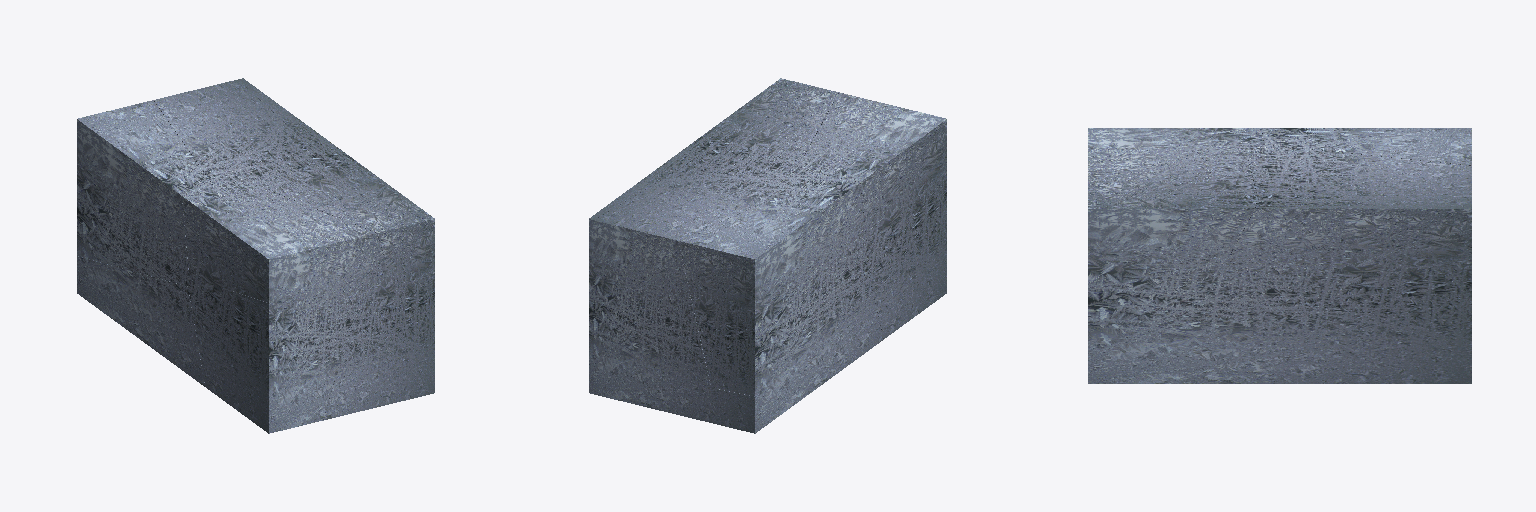
3 renders of one model, left to right at view 1: azimuth 30°, elevation 25°; view 2: azimuth 150°, elevation 25°; view 3: azimuth 270°, elevation 25°, orthographic.
Visible parts, largest first — view 1: MemoryCubeW.002_cell.006_Mesh.013, MemoryCubeW.002_cell.014_Mesh.067, MemoryCubeW.002_cell.012_Mesh.065, MemoryCubeW.002_cell.008_Mesh.061, MemoryCubeW.002_cell.003_Mesh.042, MemoryCubeW.002_cell.000_Mesh.039, MemoryCubeW.002_cell.005_Mesh.044, MemoryCubeW.002_cell.010_Mesh.063; view 2: MemoryCubeW.002_cell.003_Mesh.042, MemoryCubeW.002_cell.014_Mesh.067, MemoryCubeW.002_cell.006_Mesh.013, MemoryCubeW.002_cell.005_Mesh.044, MemoryCubeW.002_cell.012_Mesh.065, MemoryCubeW.002_cell.000_Mesh.039, MemoryCubeW.002_cell.010_Mesh.063; view 3: MemoryCubeW.002_cell.003_Mesh.042, MemoryCubeW.002_cell.008_Mesh.061, MemoryCubeW.002_cell.010_Mesh.063, MemoryCubeW.002_cell.000_Mesh.039, MemoryCubeW.002_cell.006_Mesh.013, MemoryCubeW.002_cell.014_Mesh.067.
Boxes of the visible parts, x1=… form: MemoryCubeW.002_cell.006_Mesh.013: x1=182, y1=185, x2=387, y2=302; MemoryCubeW.002_cell.014_Mesh.067: x1=77, y1=100, x2=213, y2=285; MemoryCubeW.002_cell.012_Mesh.065: x1=188, y1=277, x2=357, y2=433; MemoryCubeW.002_cell.008_Mesh.061: x1=323, y1=258, x2=434, y2=420; MemoryCubeW.002_cell.003_Mesh.042: x1=154, y1=80, x2=326, y2=186; MemoryCubeW.002_cell.000_Mesh.039: x1=255, y1=158, x2=434, y2=267; MemoryCubeW.002_cell.005_Mesh.044: x1=77, y1=256, x2=204, y2=386; MemoryCubeW.002_cell.010_Mesh.063: x1=238, y1=78, x2=351, y2=161; MemoryCubeW.002_cell.003_Mesh.042: x1=589, y1=146, x2=824, y2=413; MemoryCubeW.002_cell.014_Mesh.067: x1=679, y1=175, x2=867, y2=395; MemoryCubeW.002_cell.006_Mesh.013: x1=801, y1=92, x2=946, y2=251; MemoryCubeW.002_cell.005_Mesh.044: x1=676, y1=265, x2=883, y2=433; MemoryCubeW.002_cell.012_Mesh.065: x1=867, y1=164, x2=946, y2=338; MemoryCubeW.002_cell.000_Mesh.039: x1=698, y1=78, x2=838, y2=160; MemoryCubeW.002_cell.010_Mesh.063: x1=589, y1=139, x2=717, y2=234; MemoryCubeW.002_cell.003_Mesh.042: x1=1247, y1=145, x2=1471, y2=383; MemoryCubeW.002_cell.008_Mesh.061: x1=1088, y1=248, x2=1283, y2=383; MemoryCubeW.002_cell.010_Mesh.063: x1=1228, y1=198, x2=1471, y2=294; MemoryCubeW.002_cell.000_Mesh.039: x1=1088, y1=161, x2=1257, y2=257; MemoryCubeW.002_cell.006_Mesh.013: x1=1088, y1=128, x2=1263, y2=180; MemoryCubeW.002_cell.014_Mesh.067: x1=1262, y1=128, x2=1471, y2=165.
Size of the model in its own units: 2 by 2 by 4.
Materials: 1 (1 with a texture image).